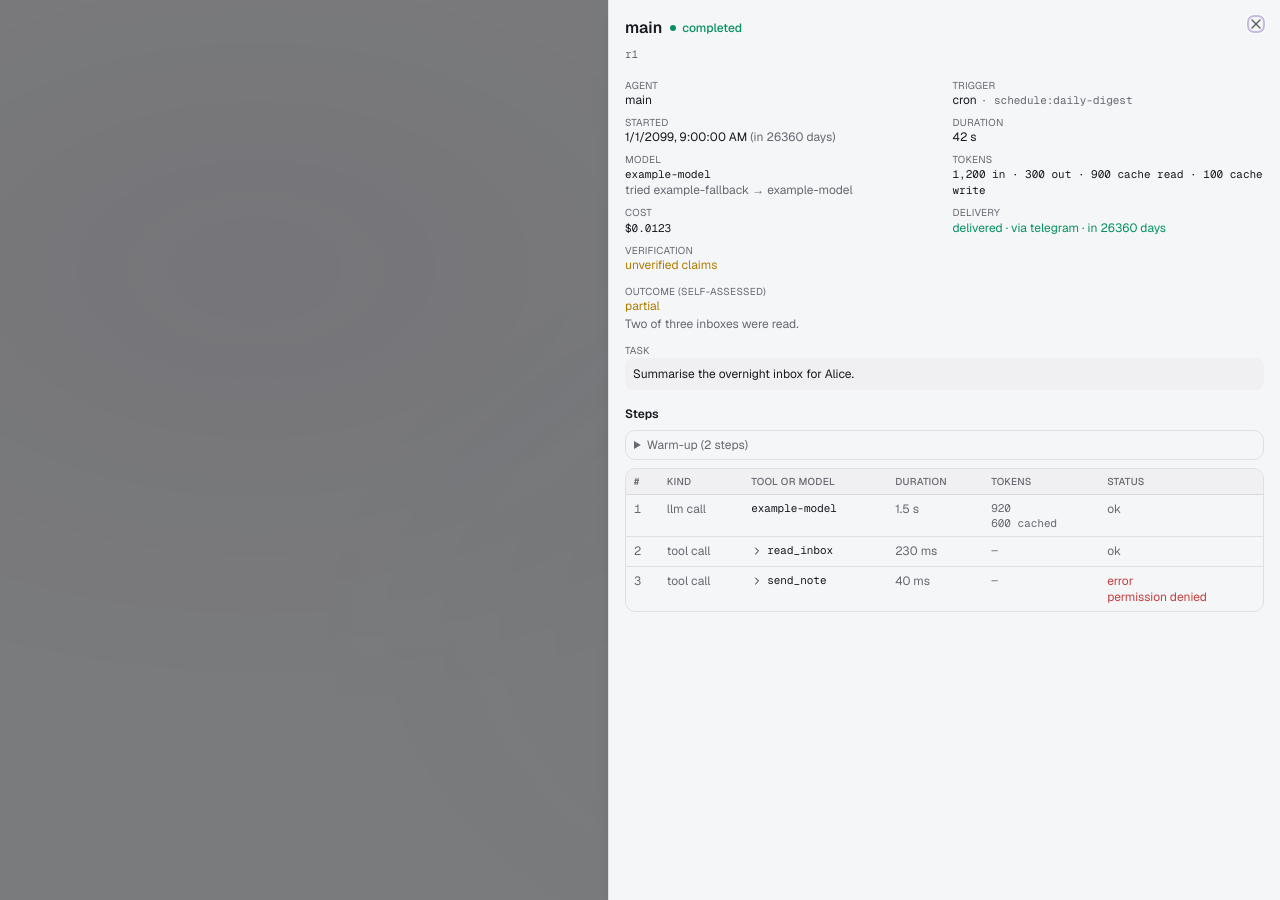
it: RunDetailDrawer › expands a tool step to its pretty-printed input and output, stating the cap
The width and height of the screenshot is (1280, 900).
Click the button with test id "step-io-toggle-3": [792, 551] box [751,543,833,558]
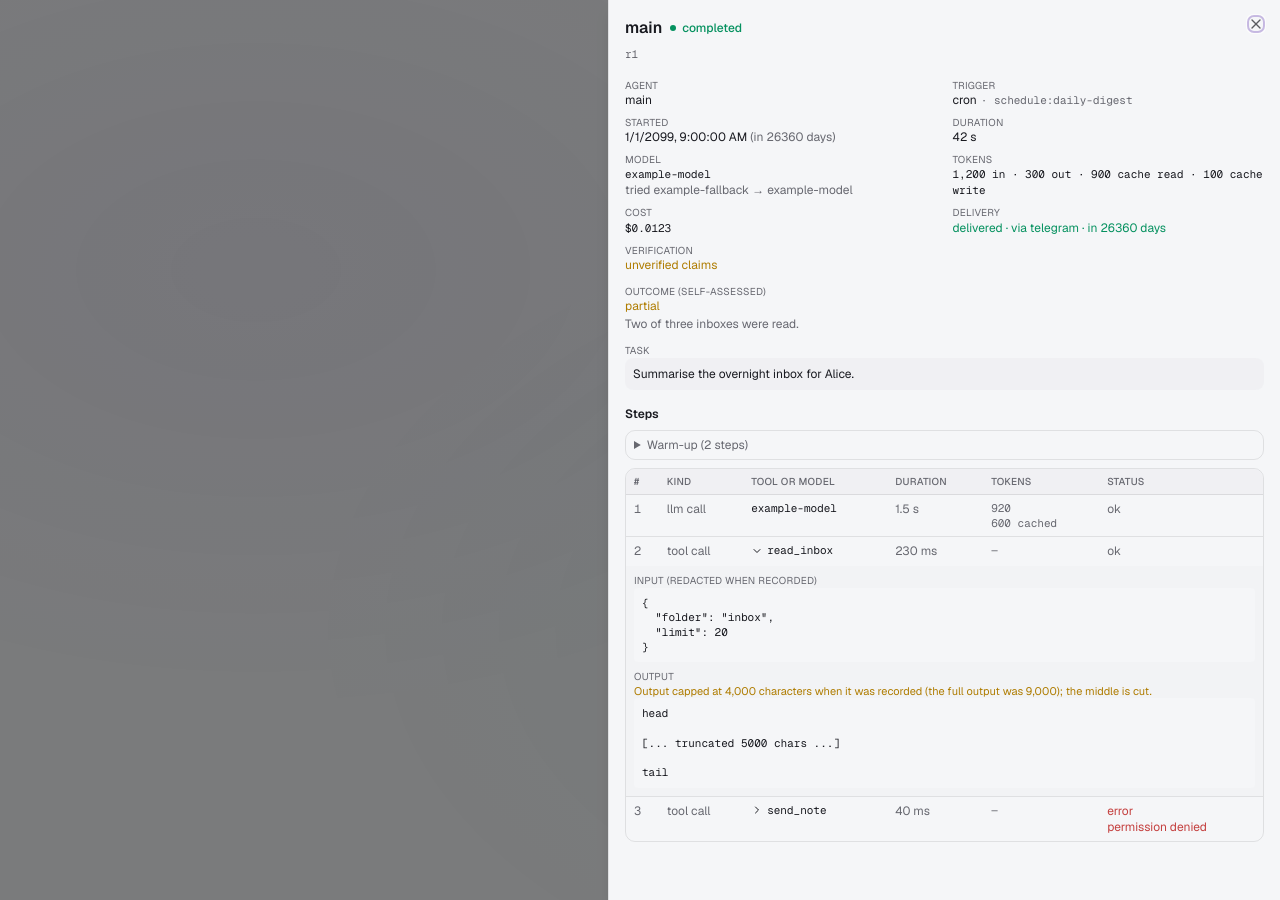
Expected: the text with test id "step-input-3" shows "\"folder\": \"inbox\"", [642,596,774,654]
Expected: the text with test id "step-output-3" shows "truncated 5000 chars", [642,706,840,779]
Expected: the text with test id "step-truncated-3" shows "4,000", [725,684,756,698]
